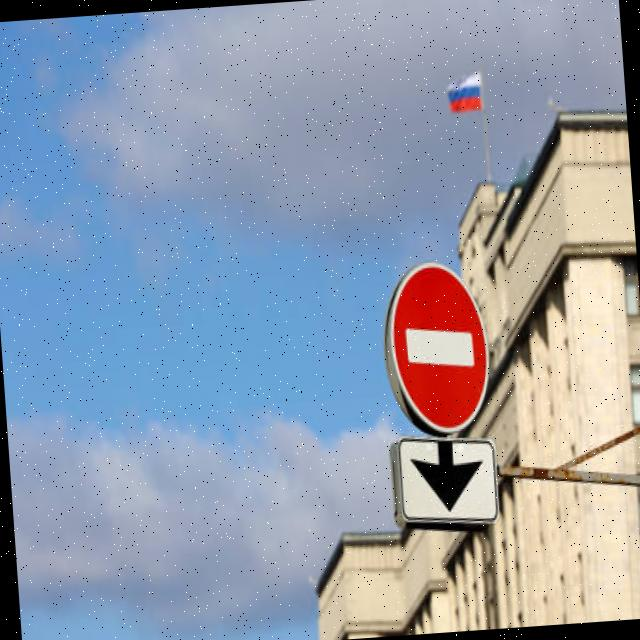do_not_enter: (366, 240, 508, 450)
